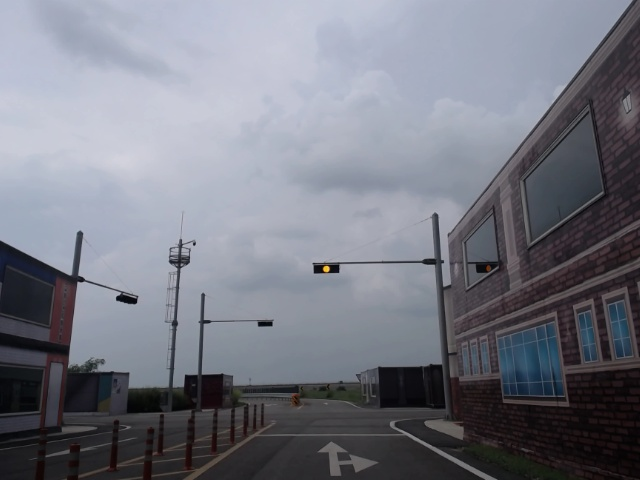orange_3: (313, 263, 339, 274)
